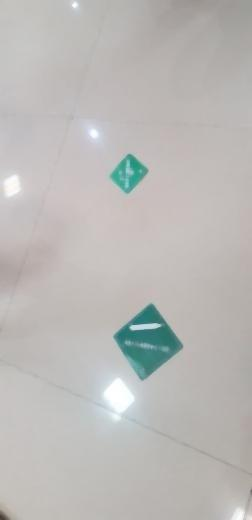non-flammable-gas: (112, 301, 185, 384), (108, 152, 148, 197)
